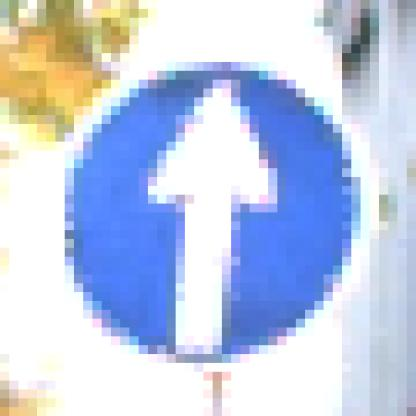AheadOnly: (47, 54, 371, 373)
